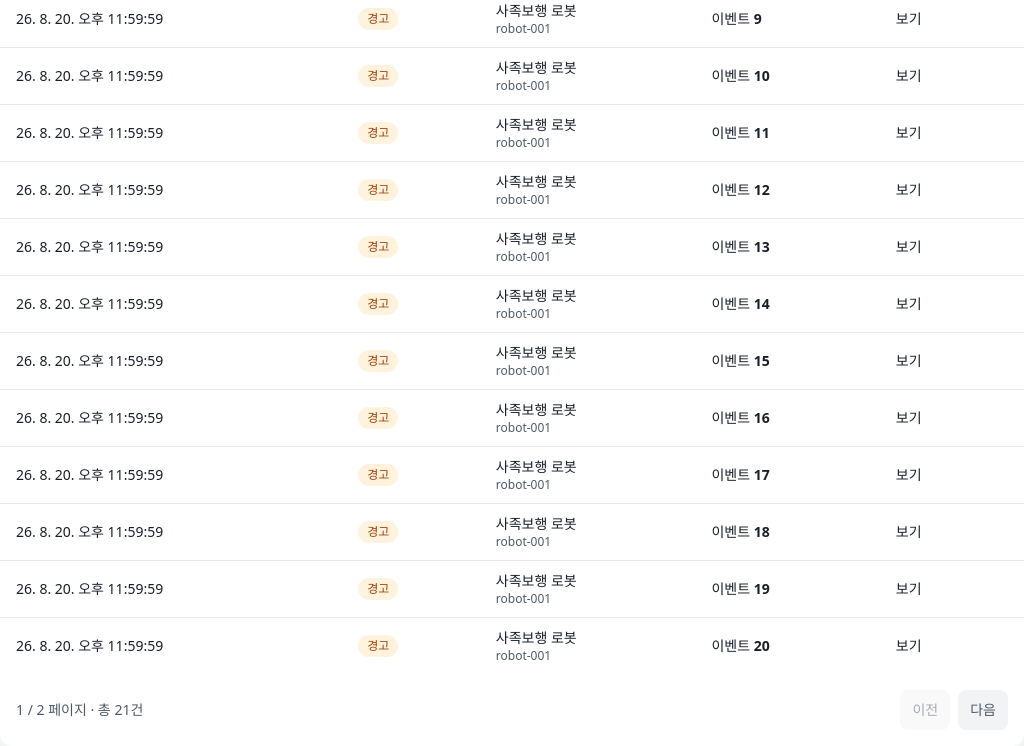
EventsPage › 페이지 이동에는 같은 이동 기간 기준 시각을 유지한다
(page scrolled)
Click the button "다음" at (983, 710), box [958,690,1008,730]
(page scrolled)
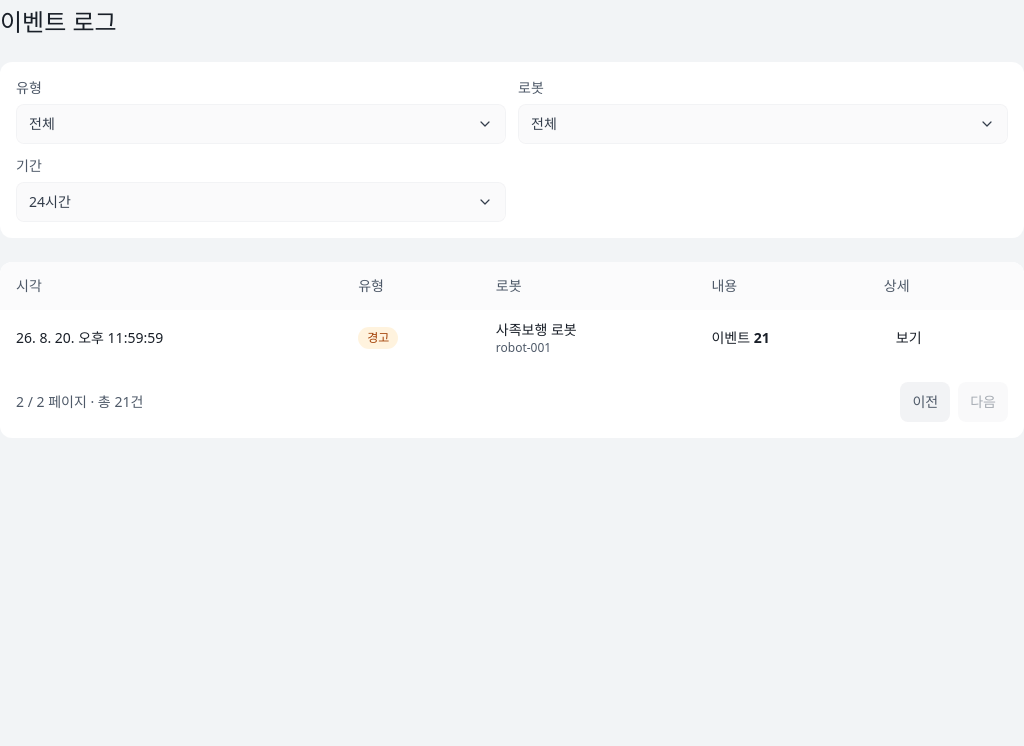
Result: the text "이벤트 21" is shown at [711,328,770,347]
